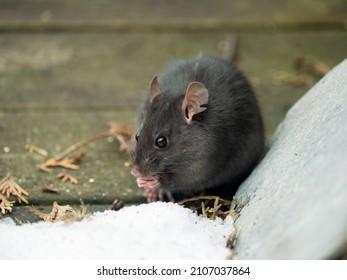rat: (131, 50, 267, 205)
